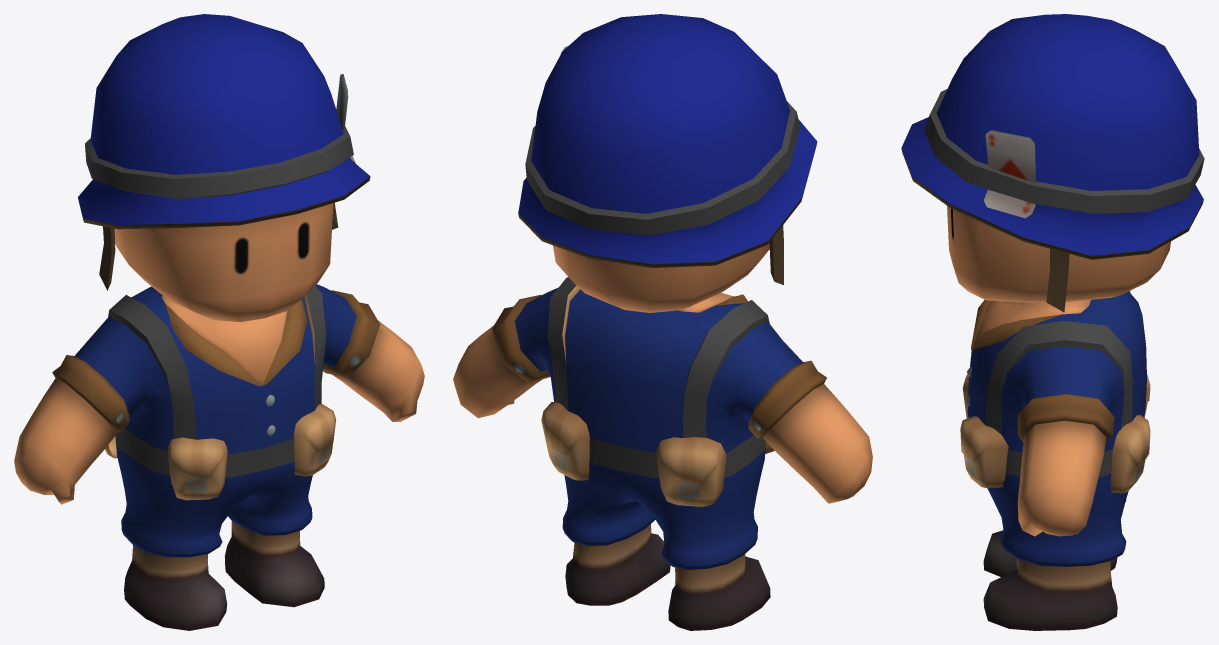
File: StumbleBlue.fbx
The picture shows the model from 3 angles, left to right: view 1: azimuth 30°, elevation 25°; view 2: azimuth 150°, elevation 25°; view 3: azimuth 270°, elevation 25°; orthographic projection. The views are drawn at different scales.
Visible parts, largest first — view 1: Player_SkinSoldier_0; view 2: Player_SkinSoldier_0; view 3: Player_SkinSoldier_0.
Boxes of the visible parts, <box> form: Player_SkinSoldier_0: <box>14,14,424,630</box>; Player_SkinSoldier_0: <box>453,14,872,630</box>; Player_SkinSoldier_0: <box>901,14,1204,630</box>.
Size of the model in its own units: 1.4 by 1.88 by 0.9168.
4 materials, 1 textured.
